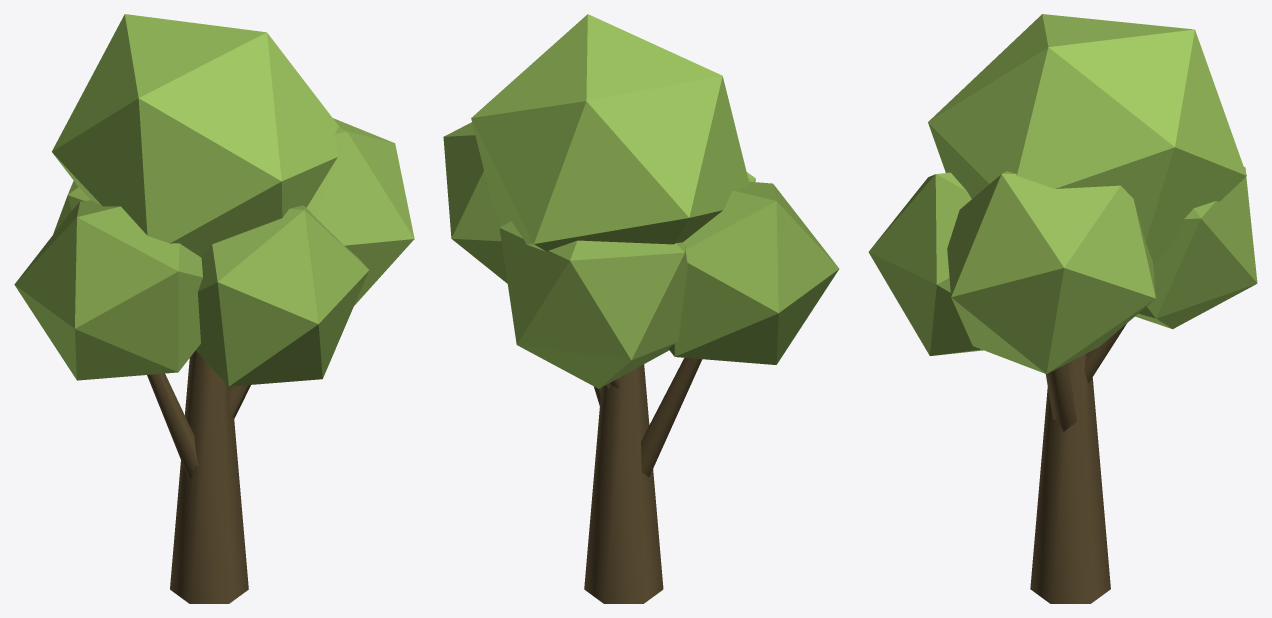
File: Tree_Young.glb
3 views of the same model, side by side, from view 1: azimuth 30°, elevation 25°; view 2: azimuth 150°, elevation 25°; view 3: azimuth 270°, elevation 25° (orthographic). The views are drawn at different scales.
Parts seen in each view (by area): view 1: Tree_Young; view 2: Tree_Young; view 3: Tree_Young.
Boxes of the visible parts, x1,y1,x2,y2 form: Tree_Young: (14,14,414,603); Tree_Young: (443,14,839,603); Tree_Young: (868,14,1257,603).
Bounding box in the file's own units: 1.3 × 1.93 × 1.2.
